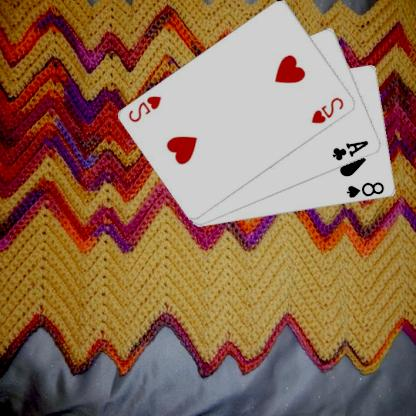2H: (128, 93, 165, 124), (311, 94, 347, 125)
8S: (346, 179, 387, 200)
AC: (332, 138, 371, 162)
